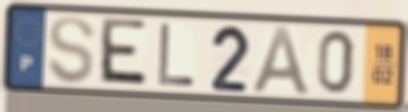0: (315, 28, 357, 98)
2: (206, 19, 255, 95)
A: (250, 23, 314, 98)
E: (96, 15, 150, 90)
L: (156, 22, 197, 89)
S: (45, 13, 98, 87)
